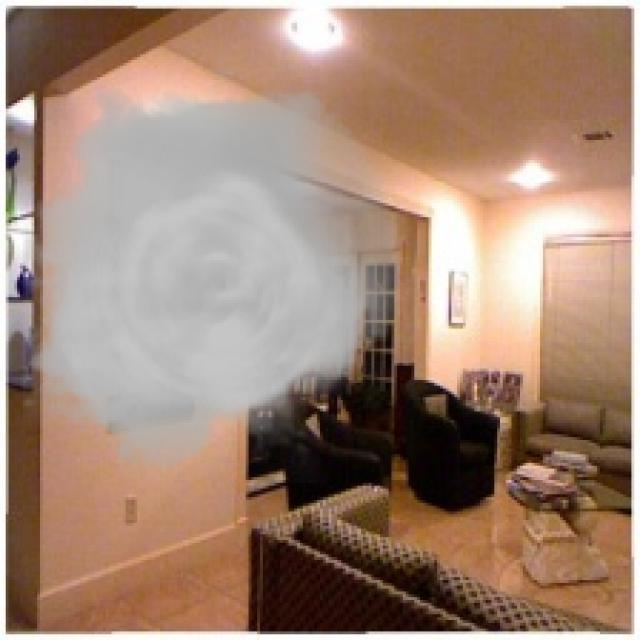Smoke: (23, 68, 403, 483)
